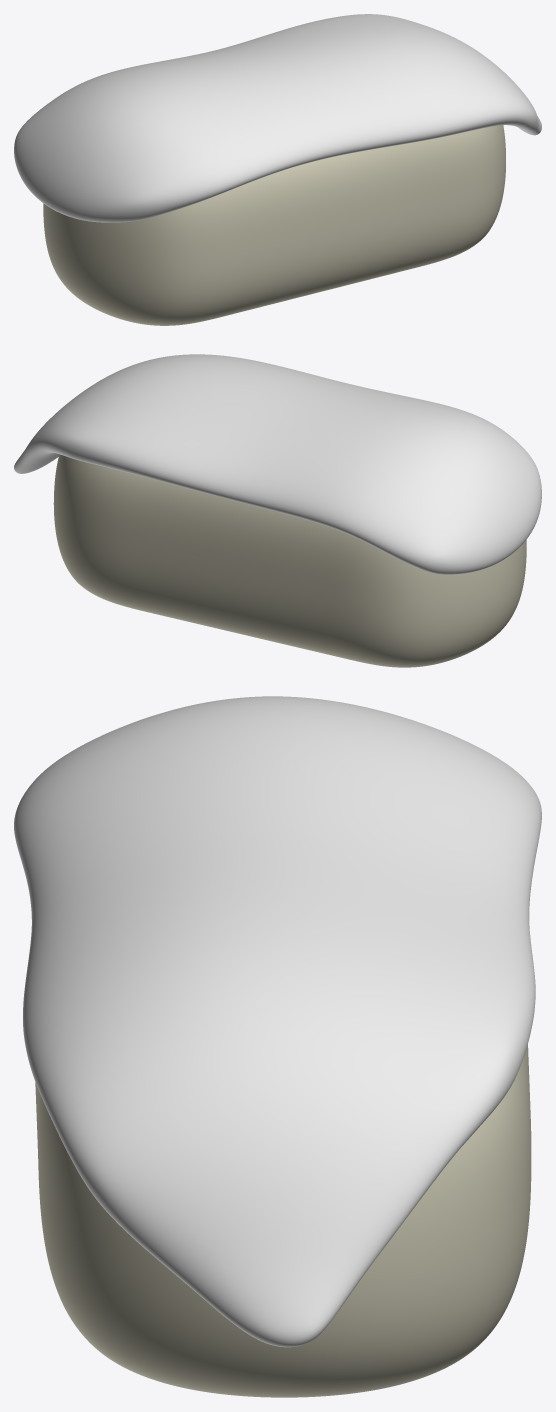
Rendered from Salmon Sushi.fbx.
3 renders of one model, top to bottom at view 1: azimuth 30°, elevation 25°; view 2: azimuth 150°, elevation 25°; view 3: azimuth 270°, elevation 25°, orthographic. The views are drawn at different scales.
Visible parts, largest first — view 1: Salmon 3, Rice 1; view 2: Salmon 3, Rice 1; view 3: Salmon 3, Rice 1.
Part boxes in pixels (bbox=[...]): Salmon 3: bbox=[14, 14, 541, 222]; Rice 1: bbox=[43, 125, 505, 325]; Salmon 3: bbox=[14, 354, 541, 574]; Rice 1: bbox=[53, 454, 526, 667]; Salmon 3: bbox=[14, 696, 541, 1347]; Rice 1: bbox=[35, 1044, 531, 1397].
Size of the model in its own units: 216 by 87.73 by 103.
